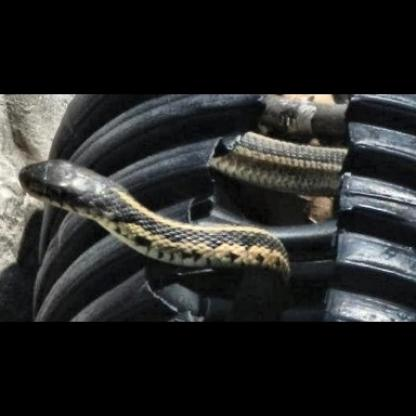Snake: (14, 159, 283, 279)
